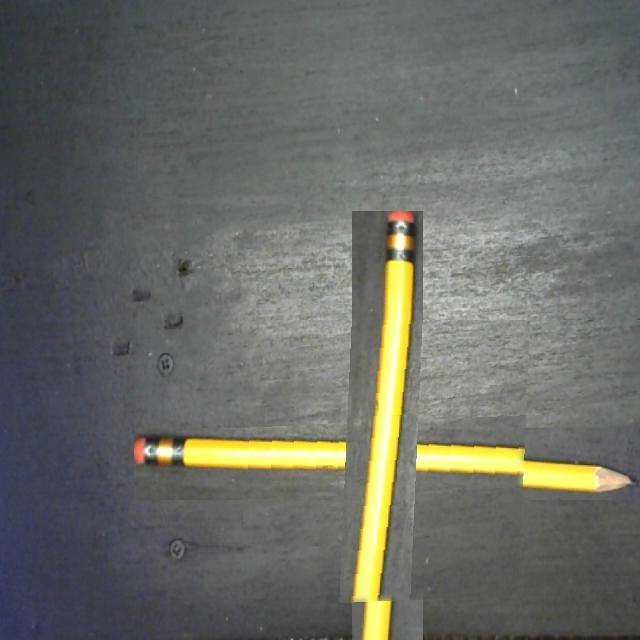biodegradable: (243, 320, 531, 608)
